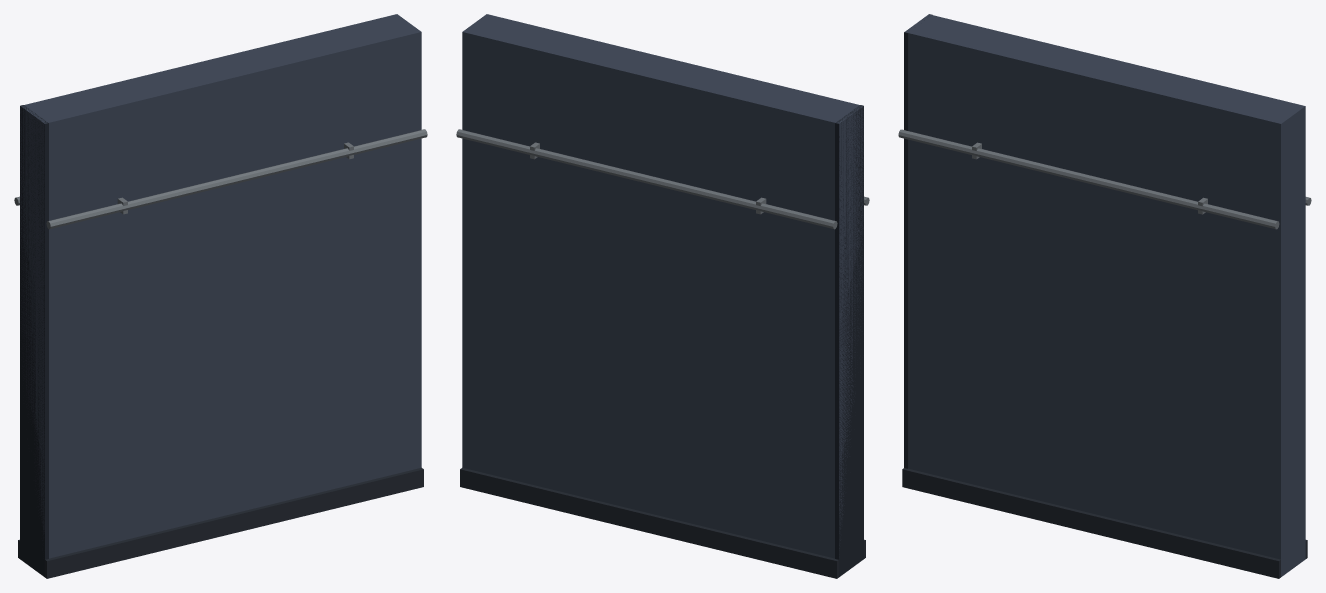
File: backstage_wall.glb
3 views of the same model, side by side, from view 1: azimuth 30°, elevation 25°; view 2: azimuth 150°, elevation 25°; view 3: azimuth 330°, elevation 25° (orthographic).
Visible parts, largest first — view 1: BackstageWall; view 2: BackstageWall; view 3: BackstageWall.
Part boxes in pixels (x1,y1,x2,y2): BackstageWall: (14,14,427,578); BackstageWall: (456,14,869,578); BackstageWall: (898,14,1311,578).
Size of the model in its own units: 4 by 4.6 by 0.67.
